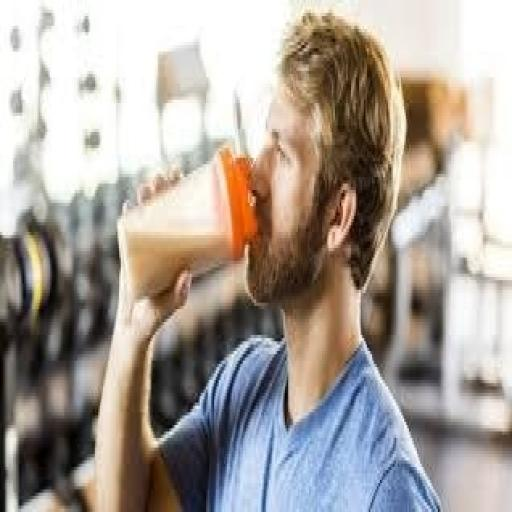drinking: (116, 142, 258, 300)
